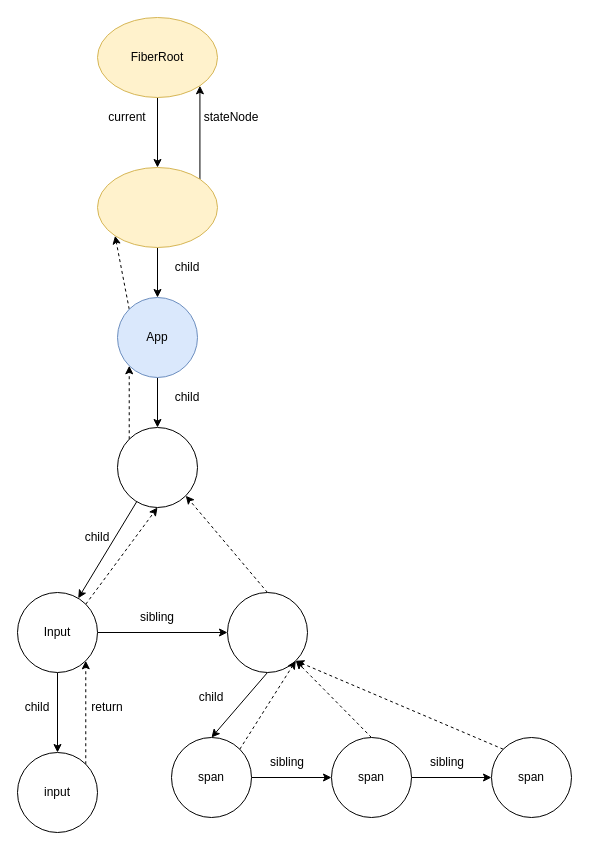
Image size: 589x850. Some labels were removed from this diagram. The centre of each missing label's shape, as x and y in pixels:
div: the point at 157,467
list: the point at 267,632
RootFiber: the point at 157,207
